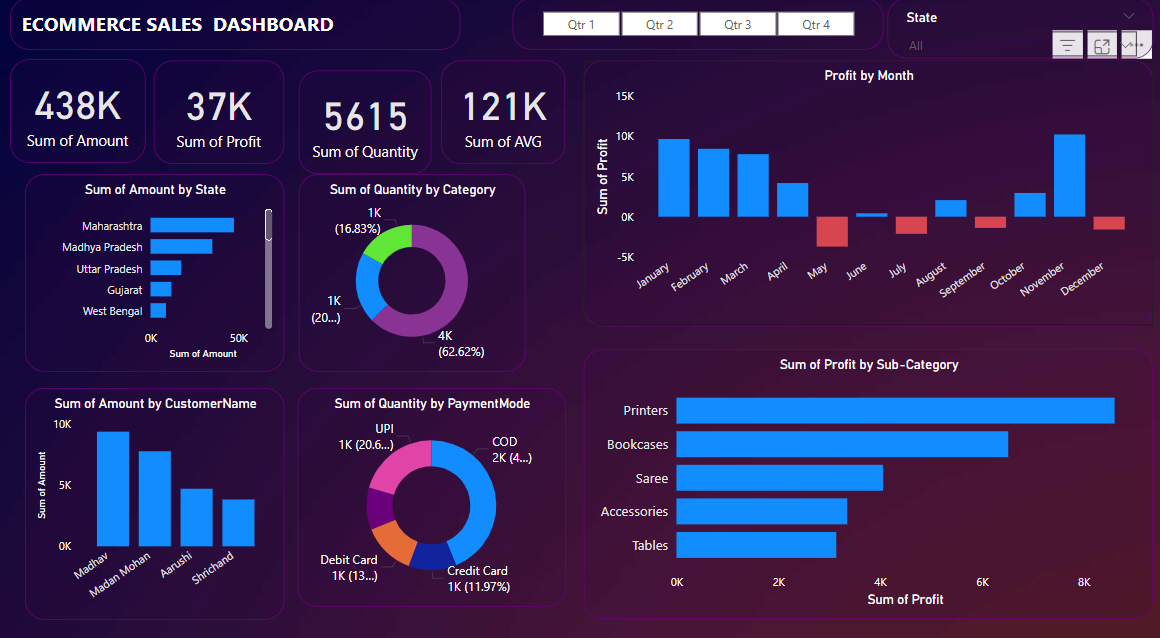

This screenshot's page, from the dashboard's own definition file:
{"tool":"powerbi","page":{"name":"Page 1","canvas":[1280,720],"ordinal":0},"visuals":[{"type":"textbox","box":[11.1,0,494.4,56.9],"z":1},{"type":"columnChart","title":"Profit by Month","fields":{"Category":["Orders.Order Date.Variation.Date Hierarchy.Month"],"Y":["Sum(Details.Profit)"]},"box":[640.3,68.1,625,291.7],"z":2},{"type":"barChart","fields":{"Category":["Details.Sub-Category"],"Y":["Sum(Details.Profit)"]},"box":[640.3,386.1,625,295.8],"z":3},{"type":"donutChart","fields":{"Category":["Details.Category"],"Y":["Sum(Details.Quantity)"]},"box":[327.8,193.1,248.6,216.7],"z":4},{"type":"donutChart","fields":{"Y":["Sum(Details.Quantity)"],"Series":["Details.PaymentMode"]},"box":[326.4,427.8,294.4,240.3],"z":5},{"type":"card","fields":{"Values":["Sum(Details.Amount)"]},"box":[11.1,66.7,148.6,113.9],"z":6},{"type":"card","fields":{"Values":["Sum(Details.Profit)"]},"box":[169.4,68.1,143.1,113.9],"z":7},{"type":"card","fields":{"Values":["Sum(Details.Quantity)"]},"box":[327.8,79.2,145.8,113.9],"z":8},{"type":"card","fields":{"Values":["Sum(Details.AVG)"]},"box":[484.7,68.1,136.1,113.9],"z":9},{"type":"barChart","fields":{"Category":["Orders.State","Details.Amount"],"Y":["Sum(Details.Amount)"]},"box":[27.8,193.1,284.7,216.7],"z":10},{"type":"columnChart","fields":{"Category":["Orders.CustomerName"],"Y":["Sum(Details.Amount)"]},"box":[28,428,285,254],"z":11},{"type":"slicer","fields":{"Values":["Orders.Order Date.Variation.Date Hierarchy.Quarter"]},"box":[562.5,0,406.9,56.9],"z":12},{"type":"slicer","fields":{"Values":["Orders.State"]},"box":[973.6,0,291.7,66.7],"z":13}]}

Visuals, with their boxes in screenshot pixels (x1, y1, x2, y2), scaled from the page's 1280x720 canvas onto the 1160x638 screenshot:
textbox: select_region(10, 0, 458, 50)
"Profit by Month" columnChart: select_region(580, 60, 1147, 319)
barChart - Details.Sub-Category x Sum(Details.Profit): select_region(580, 342, 1147, 604)
donutChart - Details.Category x Sum(Details.Quantity): select_region(297, 171, 522, 363)
donutChart - Sum(Details.Quantity) x Details.PaymentMode: select_region(296, 379, 563, 592)
card - Sum(Details.Amount): select_region(10, 59, 145, 160)
card - Sum(Details.Profit): select_region(154, 60, 283, 161)
card - Sum(Details.Quantity): select_region(297, 70, 429, 171)
card - Sum(Details.AVG): select_region(439, 60, 563, 161)
barChart - Orders.State x Details.Amount: select_region(25, 171, 283, 363)
columnChart - Orders.CustomerName x Sum(Details.Amount): select_region(25, 379, 284, 604)
slicer - Orders.Order Date.Variation.Date Hierarchy.Quarter: select_region(510, 0, 879, 50)
slicer - Orders.State: select_region(882, 0, 1147, 59)
